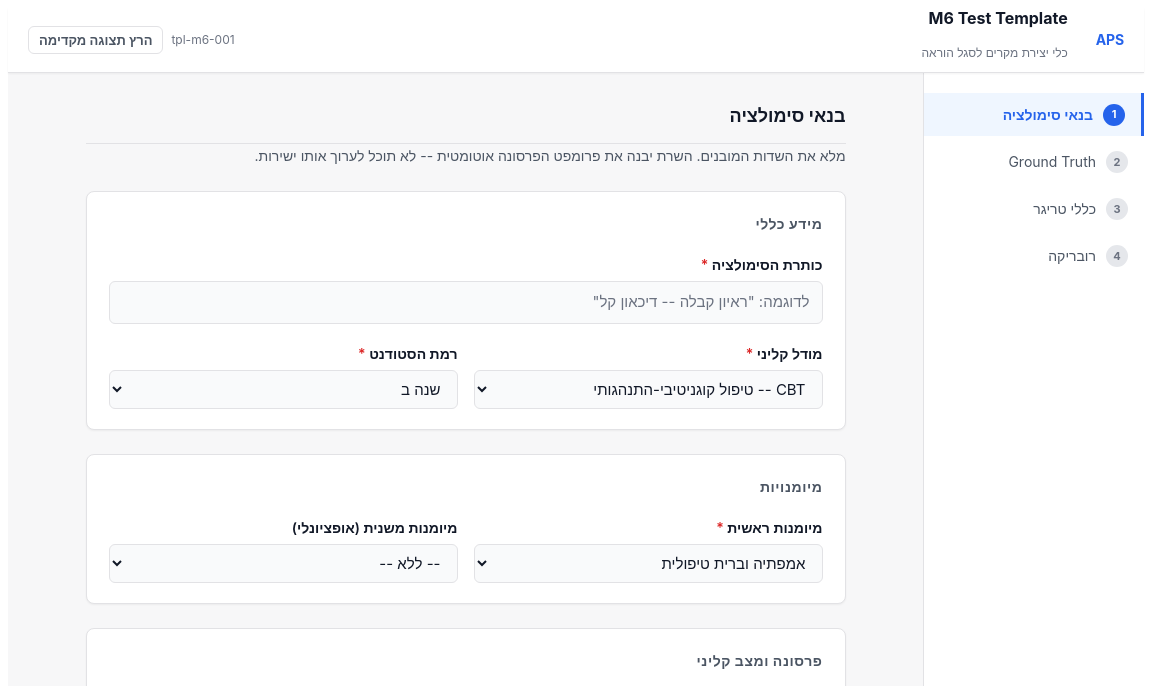
it: 1. Navigate Step 4 with GT empty: warning banner shown; Continue anyway navigates
The width and height of the screenshot is (1152, 686).
Click the button with aria-label "שלב 4". click: (1034,256)
box: [924,234,1144,277]
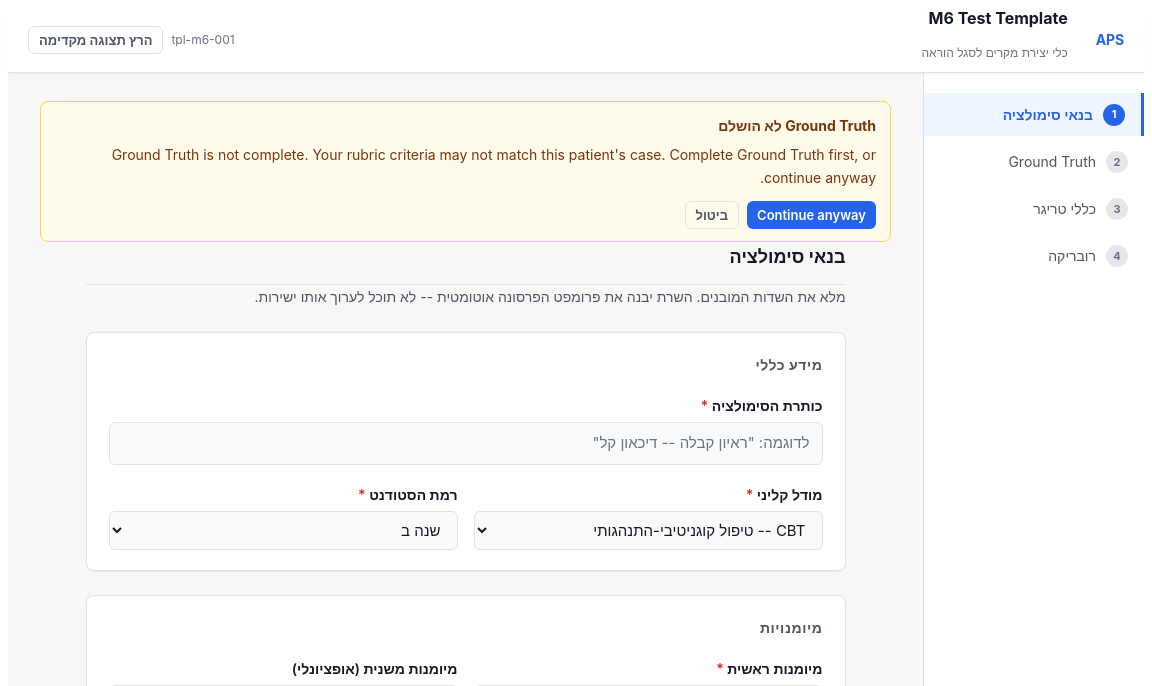
Expected: the message with test id "gt-rubric-warn-banner" is shown, [40,101,891,242]
Expected: the text "Ground Truth is not complete" is shown, [112,146,876,186]
Click the button with test id "gt-warn-continue-btn". click: (812,215)
box: [747,201,876,229]
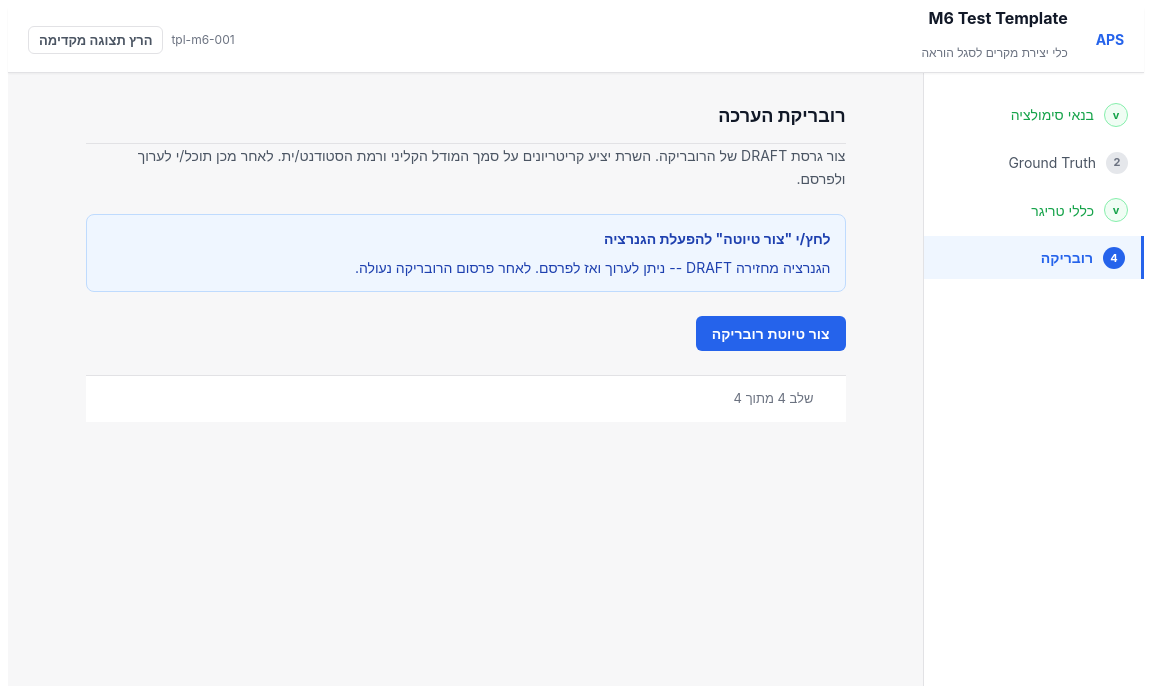
Expected: the message with test id "gt-rubric-warn-banner" is gone
Expected: the button "צור טיוטת רובריקה" is shown, [696,316,846,351]
